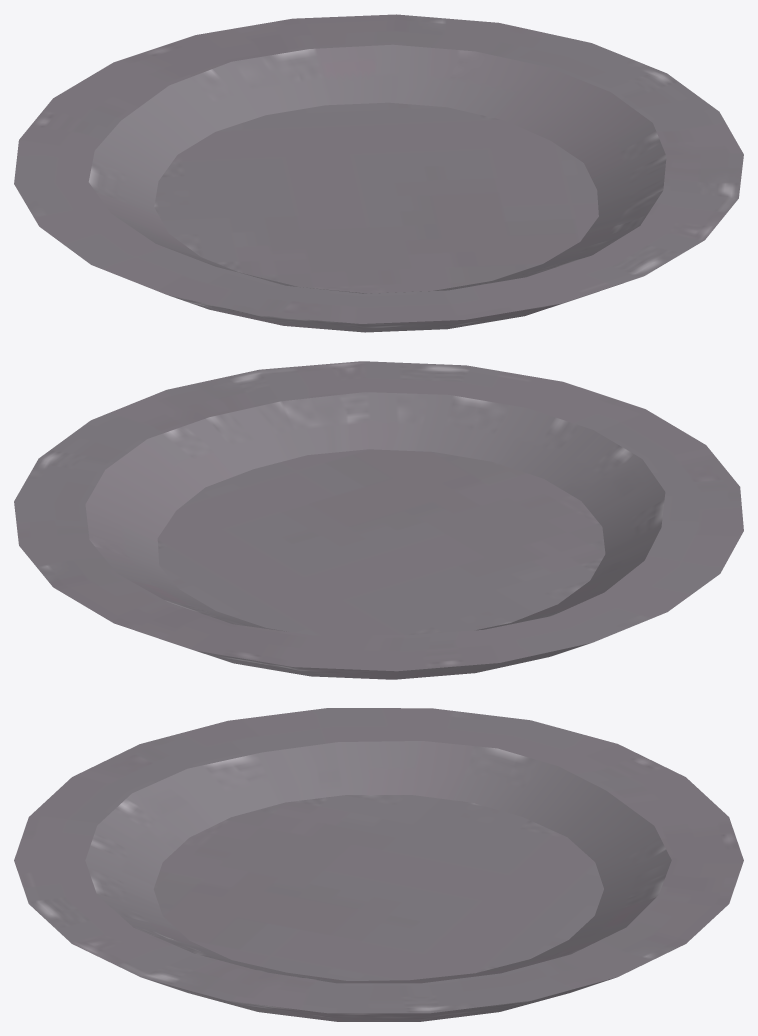
Rendered from quaternius-fantasy-props-table-plate.glb.
3 views of the same model, one above another, from view 1: azimuth 30°, elevation 25°; view 2: azimuth 150°, elevation 25°; view 3: azimuth 270°, elevation 25° (orthographic).
Parts seen in each view (by area): view 1: Table_Plate; view 2: Table_Plate; view 3: Table_Plate.
Boxes of the visible parts, bbox=[...] form: Table_Plate: bbox=[14, 14, 743, 332]; Table_Plate: bbox=[14, 361, 743, 679]; Table_Plate: bbox=[14, 708, 743, 1021].
Size of the model in its own units: 0.277 by 0.0168 by 0.28.
Materials: 1 (1 with a texture image).
